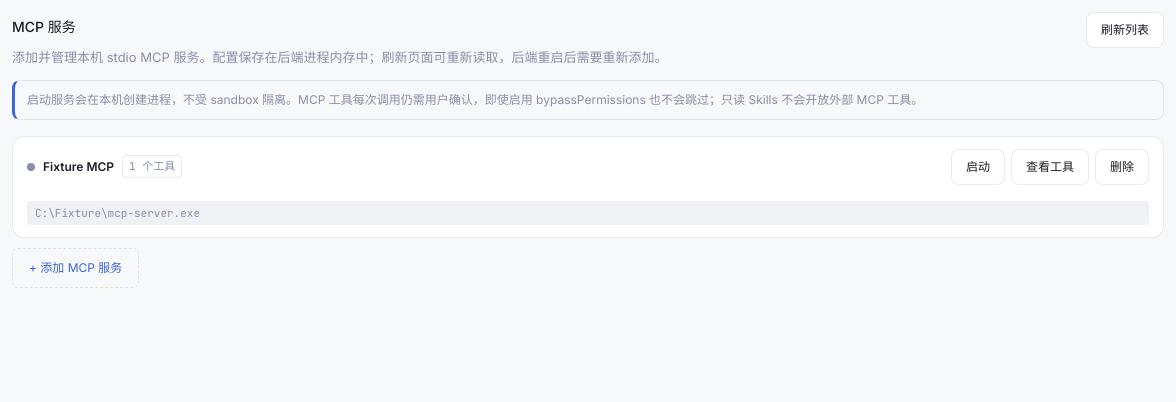
Test: MCPManager › loads a server's tools and renders names, descriptions, and schemas
Click the button "查看工具". click: point(1050, 166)
box: [1011, 148, 1089, 184]
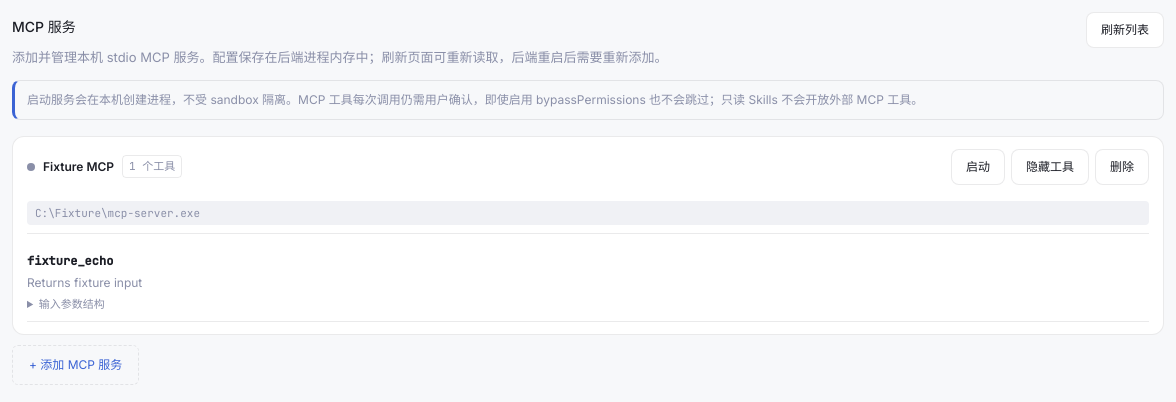
Now the text "Returns fixture input" is shown, box [27, 275, 142, 290]
Now the text "fixture_echo" is shown, box [27, 253, 113, 269]
